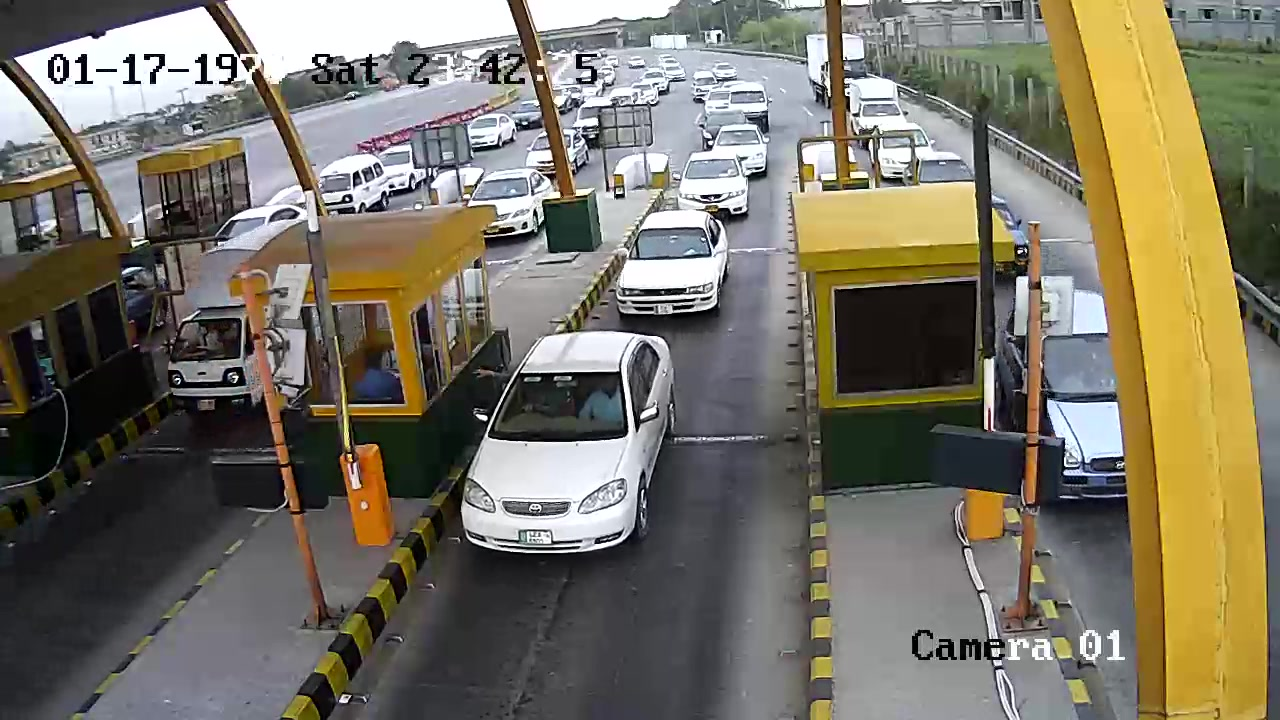F1: (450, 331, 692, 573), (606, 207, 735, 327)
